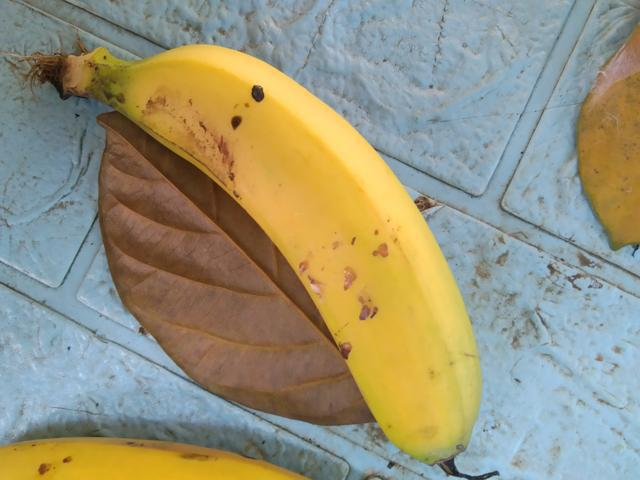ripe: (134, 20, 508, 479)
